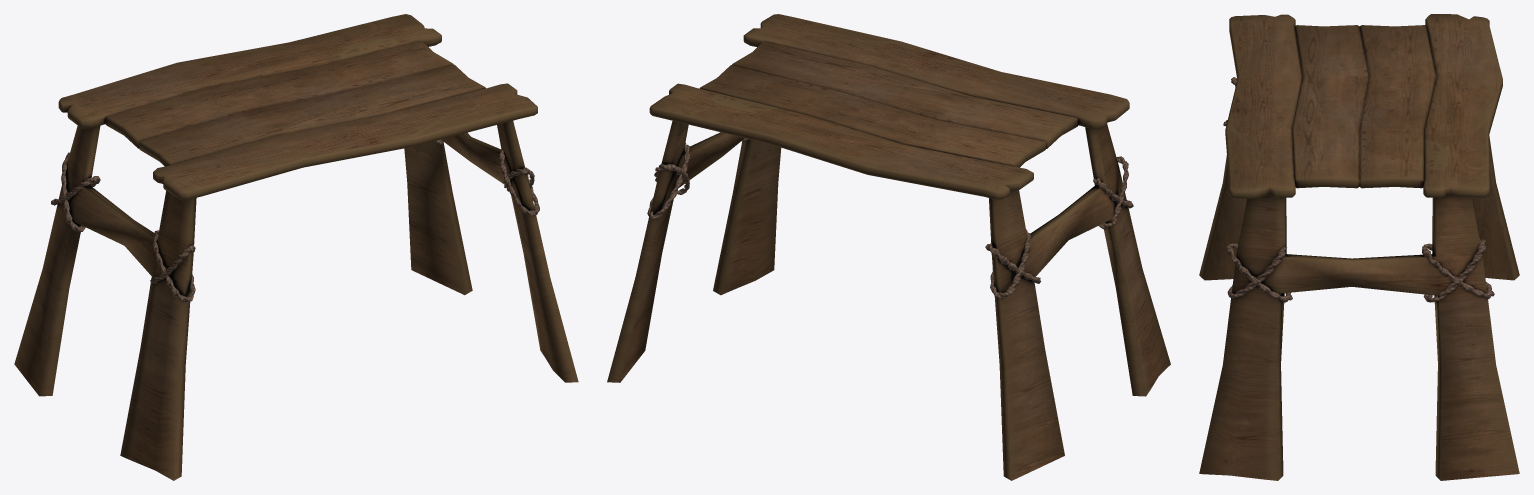
The model's file is Table.fbx.
3 renders of one model, left to right at view 1: azimuth 30°, elevation 25°; view 2: azimuth 150°, elevation 25°; view 3: azimuth 270°, elevation 25°, orthographic.
Parts seen in each view (by area): view 1: MesaMadera; view 2: MesaMadera; view 3: MesaMadera.
Boxes of the visible parts, left/top/right/bottom form: MesaMadera: left=14, top=14, right=578, bottom=480; MesaMadera: left=607, top=14, right=1170, bottom=480; MesaMadera: left=1199, top=14, right=1519, bottom=480.
Size of the model in its own units: 122 by 73.04 by 77.82.
